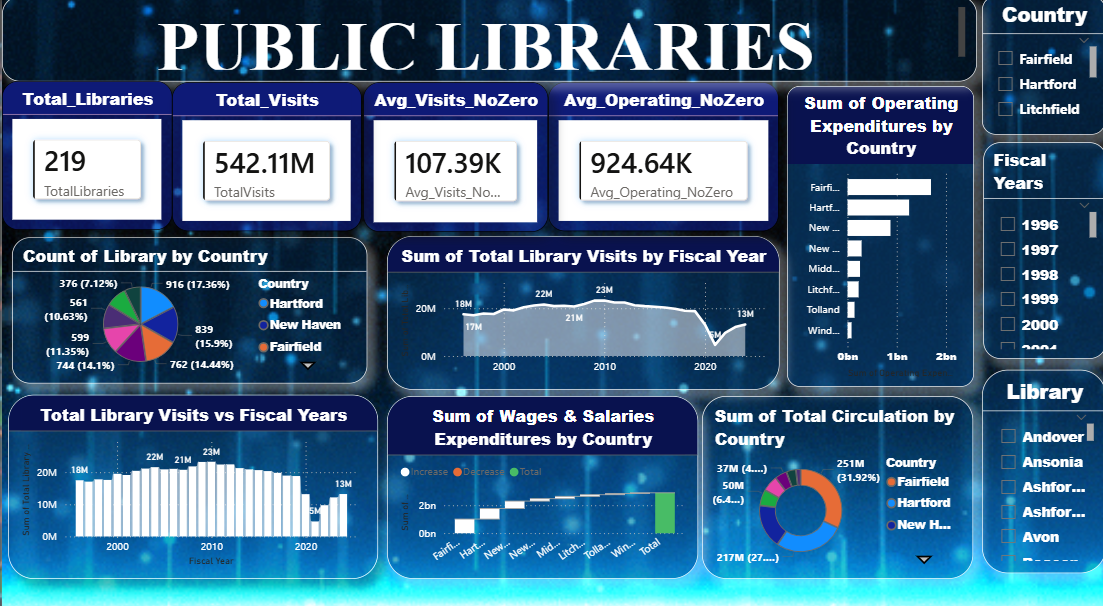

The page's visual inventory and layout, read from the dashboard file:
{"tool":"powerbi","page":{"name":"Dashboard","canvas":[1280,720],"ordinal":1},"visuals":[{"type":"slicer","title":"Country ","fields":{"Values":["Public_Libraries.County"]},"box":[1136.7,0,143.3,161.1],"z":0},{"type":"clusteredBarChart","title":"Sum of Operating Expenditures by Country","fields":{"Category":["Public_Libraries.County"],"Y":["Sum(Public_Libraries.Operating Expenditures)"]},"box":[910,104,217,349],"z":1000},{"type":"slicer","title":"Fiscal Years","fields":{"Values":["Public_Libraries.Fiscal Year"]},"box":[1137.1,170.1,143.3,251.5],"z":2000},{"type":"slicer","title":"Library ","fields":{"Values":["Public_Libraries.Library"]},"box":[1136,434,144,236],"z":3000},{"type":"pieChart","title":"Count of Library by Country","fields":{"Y":["CountNonNull(Public_Libraries.Library)"],"Category":["Public_Libraries.County"]},"box":[11.9,279.1,411.8,169.3],"z":4000},{"type":"lineChart","fields":{"Y":["Sum(Public_Libraries.Total Library Visits)"],"Category":["Public_Libraries.Fiscal Year.Variation.Date Hierarchy.Year"]},"box":[445.7,278.2,454.9,178.5],"z":5000},{"type":"cardVisual","title":"Avg_Operating_NoZero","fields":{"Data":["Public_Libraries.Avg_Operating_NoZero"]},"box":[633.3,100.7,267.2,173],"z":6000},{"type":"textbox","box":[0,0,1130,99],"z":7000},{"type":"cardVisual","title":"Total_Libraries","fields":{"Data":["Public_Libraries.TotalLibraries"]},"box":[0,98.8,197.7,173],"z":8000},{"type":"cardVisual","title":"Avg_Visits_NoZero","fields":{"Data":["Public_Libraries.Avg_Visits_NoZero"]},"box":[419.2,99.8,214.2,173.9],"z":9000},{"type":"cardVisual","title":"Total_Visits","fields":{"Data":["Public_Libraries.TotalVisits"]},"box":[197.7,99.8,219.6,173],"z":10000},{"type":"donutChart","title":"Sum of Total Circulation by Country","fields":{"Y":["Sum(Public_Libraries.Total Circulation)"],"Category":["Public_Libraries.County"]},"box":[812.2,463.3,314.4,212.2],"z":11000},{"type":"columnChart","title":"Total Library Visits  vs  Fiscal Years","fields":{"Category":["Public_Libraries.Fiscal Year.Variation.Date Hierarchy.Year"],"Y":["Sum(Public_Libraries.Total Library Visits)"]},"box":[7.8,462.2,428.9,213.3],"z":12000},{"type":"waterfallChart","title":"Sum of Wages & Salaries Expenditures by Country","fields":{"Category":["Public_Libraries.Country"],"Y":["Sum(Public_Libraries.Wages & Salaries Expenditures)"]},"box":[445.7,463.1,360.6,212.3],"z":13000}]}

Visuals, with their boxes in screenshot pixels (x1, y1, x2, y2), scaled from the page's 1280x720 canvas onto the 1103x606 screenshot:
"Country " slicer: detection(980, 0, 1102, 136)
"Sum of Operating Expenditures by Country" clusteredBarChart: detection(784, 88, 971, 381)
"Fiscal Years" slicer: detection(980, 143, 1102, 355)
"Library " slicer: detection(979, 365, 1102, 564)
"Count of Library by Country" pieChart: detection(10, 235, 365, 377)
lineChart - Sum(Public_Libraries.Total Library Visits) x Public_Libraries.Fiscal Year.Variation.Date Hierarchy.Year: detection(384, 234, 776, 384)
"Avg_Operating_NoZero" cardVisual: detection(546, 85, 776, 230)
textbox: detection(0, 0, 974, 83)
"Total_Libraries" cardVisual: detection(0, 83, 170, 229)
"Avg_Visits_NoZero" cardVisual: detection(361, 84, 546, 230)
"Total_Visits" cardVisual: detection(170, 84, 360, 230)
"Sum of Total Circulation by Country" donutChart: detection(700, 390, 971, 569)
"Total Library Visits  vs  Fiscal Years" columnChart: detection(7, 389, 376, 569)
"Sum of Wages & Salaries Expenditures by Country" waterfallChart: detection(384, 390, 695, 568)
